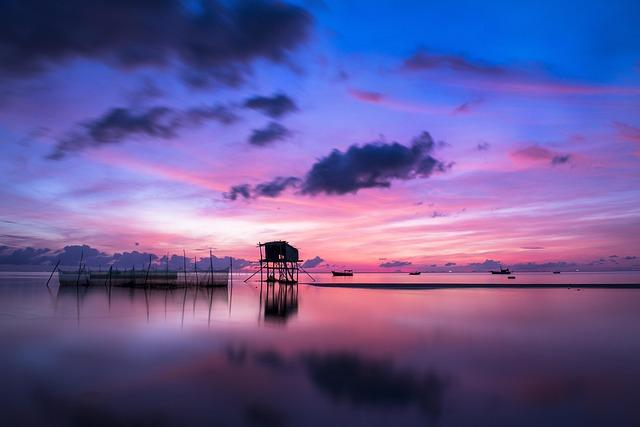Non_Gorille: (106, 43, 605, 359)
